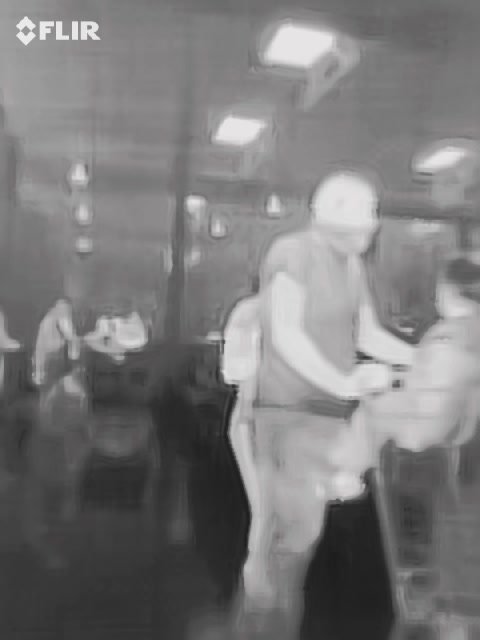head: (311, 171, 379, 257), (433, 259, 480, 319)
